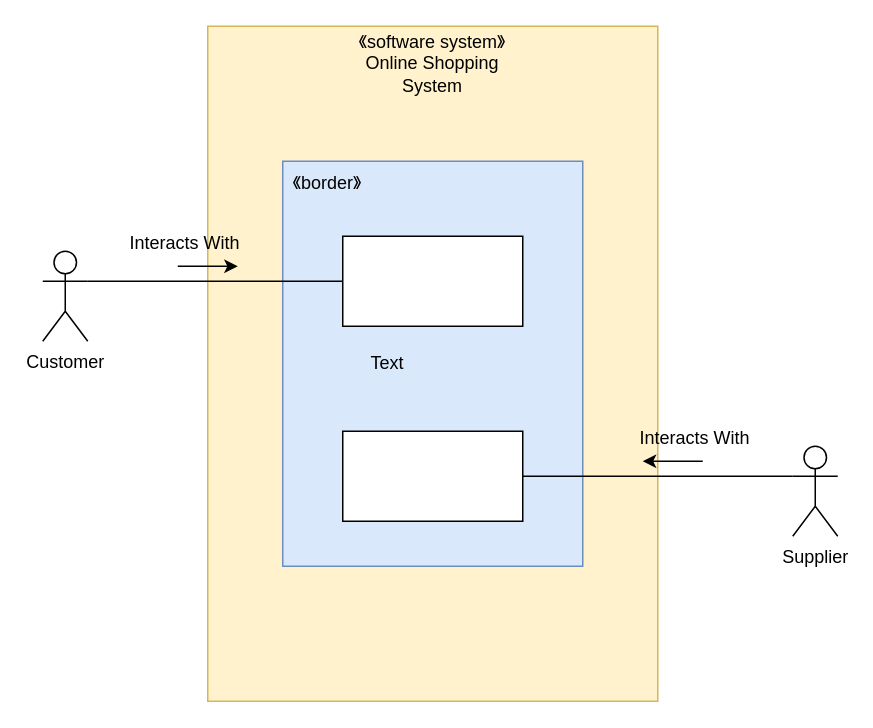
This 873x728 diagram has some shape labels left out. The box of each missing label's shape, as (x1, y1, x2, y2) in pixels:
《user interaction》 Customer Interface: (341, 235, 523, 326)
《user interaction》 Supplier Interface: (341, 430, 523, 521)
